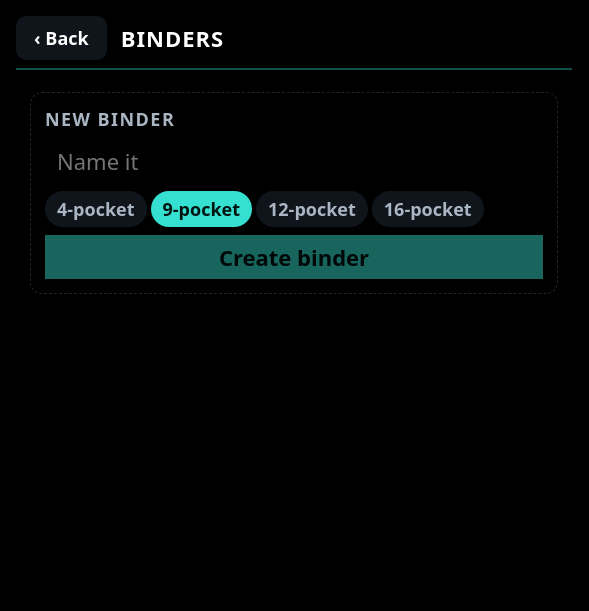
Test: WebBindersScreen › leaves a tombstone when a binder is deleted, so the deletion can sync
The width and height of the screenshot is (589, 611).
Type "Doomed" into the field named "Binder name" at (294, 161), box [45,139,543,183]
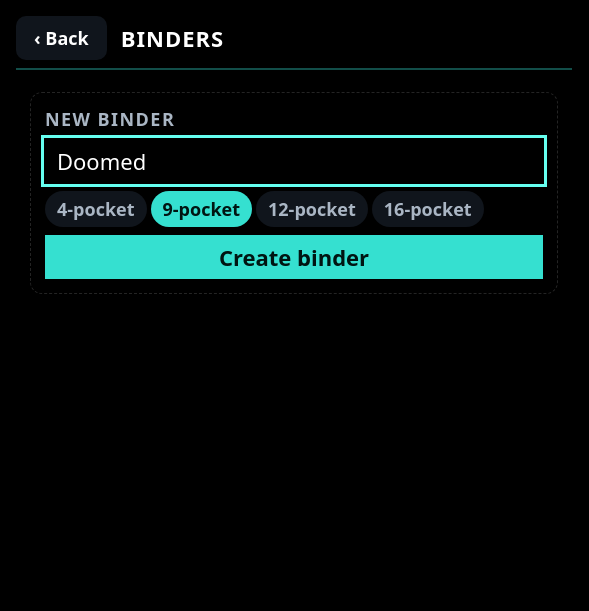
Click the button "Create binder" at (294, 257), box [45,235,543,279]
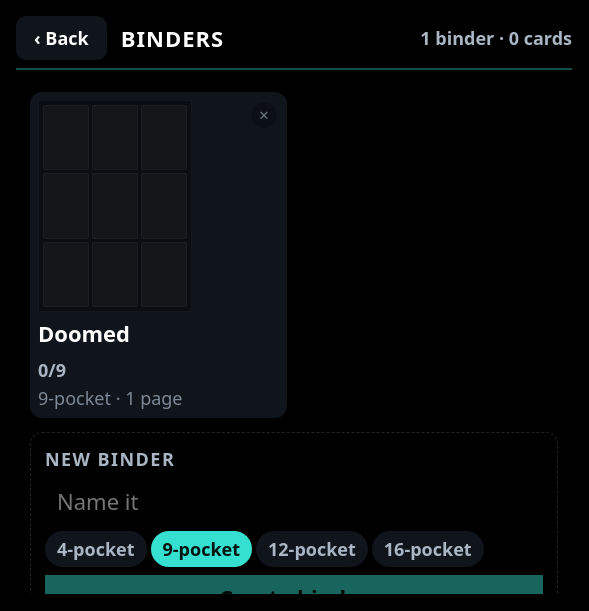
Check: the text "Doomed" is shown, box [38,320,130,348]
Click the button named "Delete Doomed" at (264, 115), box [251,102,277,128]
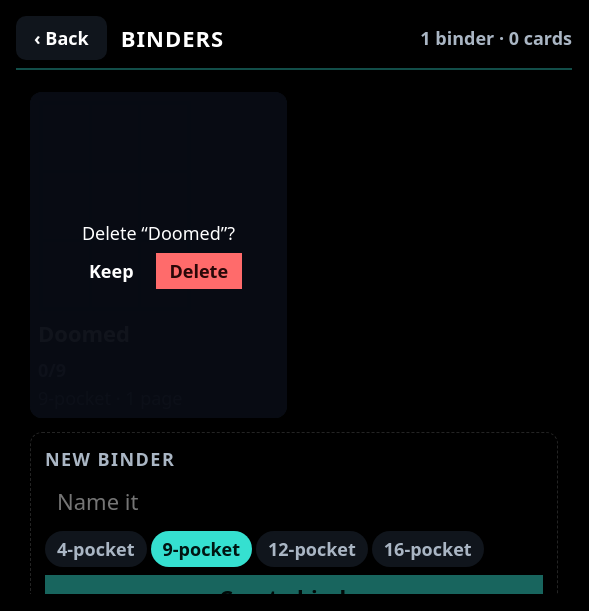
Click the button with aria-label "Confirm delete Doomed" at (199, 271), box [156,253,242,289]
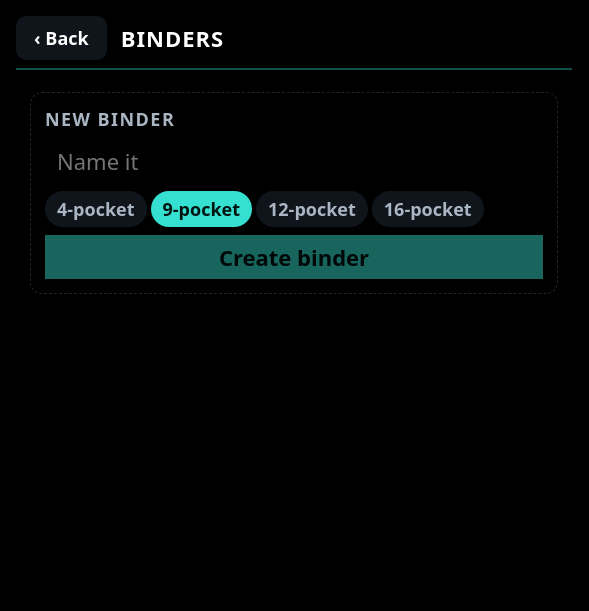
Check: the button "Doomed" is gone
